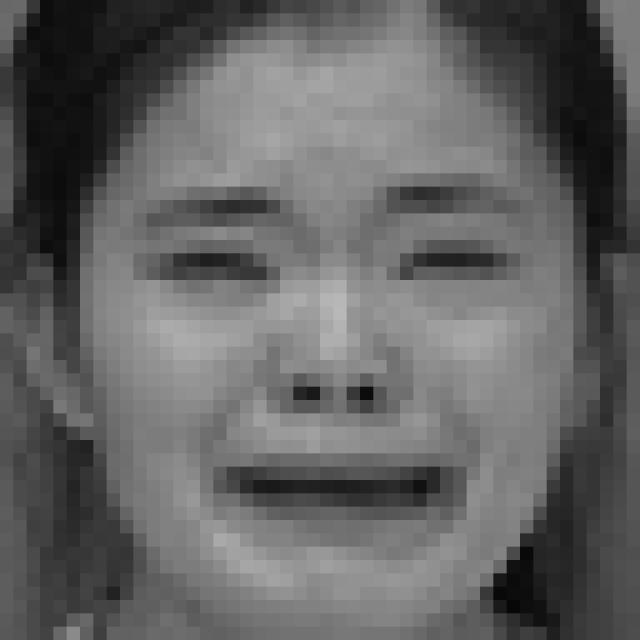sad: (125, 179, 534, 559)
